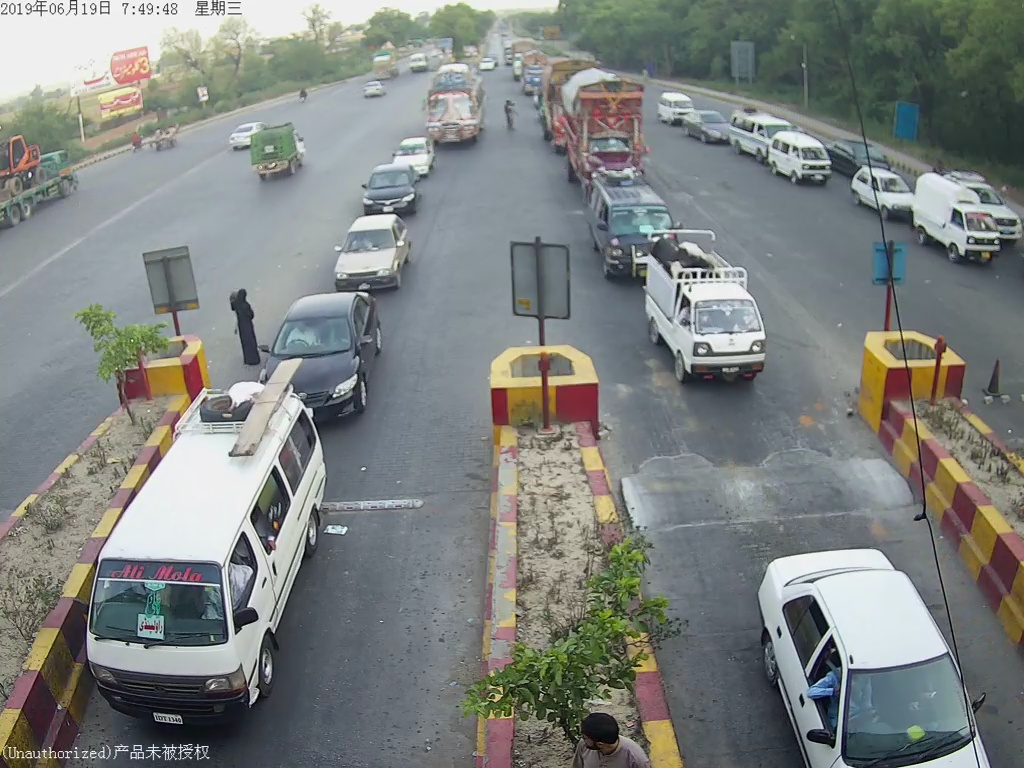Cat-1: (641, 231, 776, 387), (251, 283, 374, 420), (909, 169, 996, 262), (321, 210, 416, 287), (768, 129, 833, 188), (354, 167, 421, 216)
Cat-2: (80, 389, 322, 726)
Cat-3: (412, 54, 491, 145)
Cat-4: (572, 73, 643, 191)
